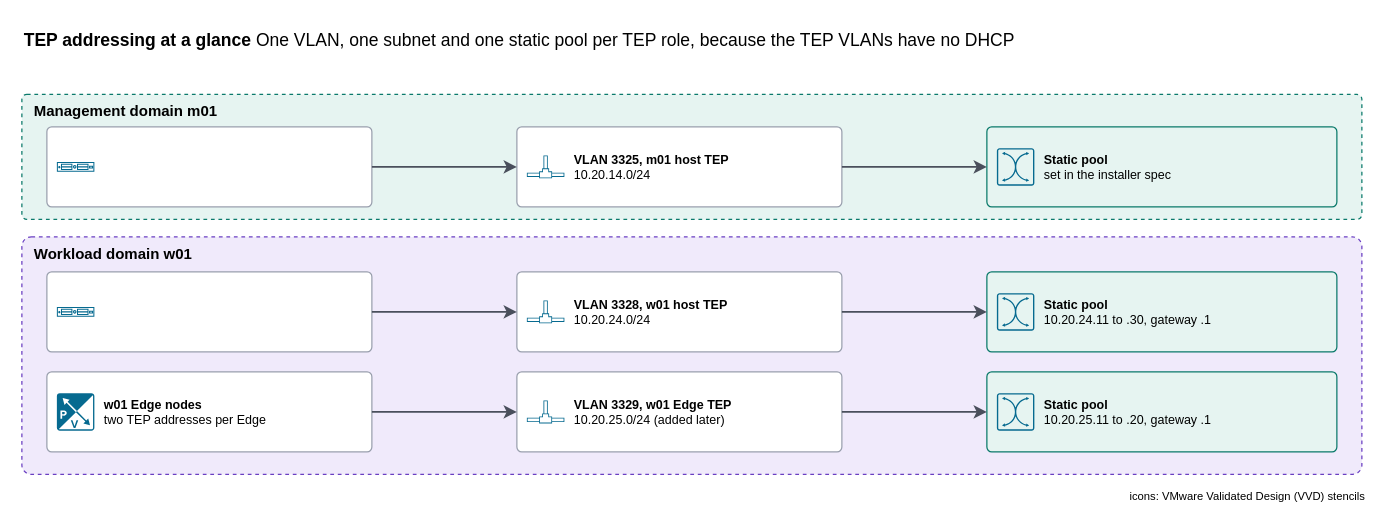
Some shapes in this 1389 by 525 pixel diagram are drawn without their labels. The shapes that lost their labels are listed below. From the top down, each one's centre as x and y in pixels, then its label:
the point at 209,166: m01 ESX hosts TEP interfaces vmk10, vmk11
the point at 209,311: w01 ESX hosts TEP interfaces vmk10, vmk11
